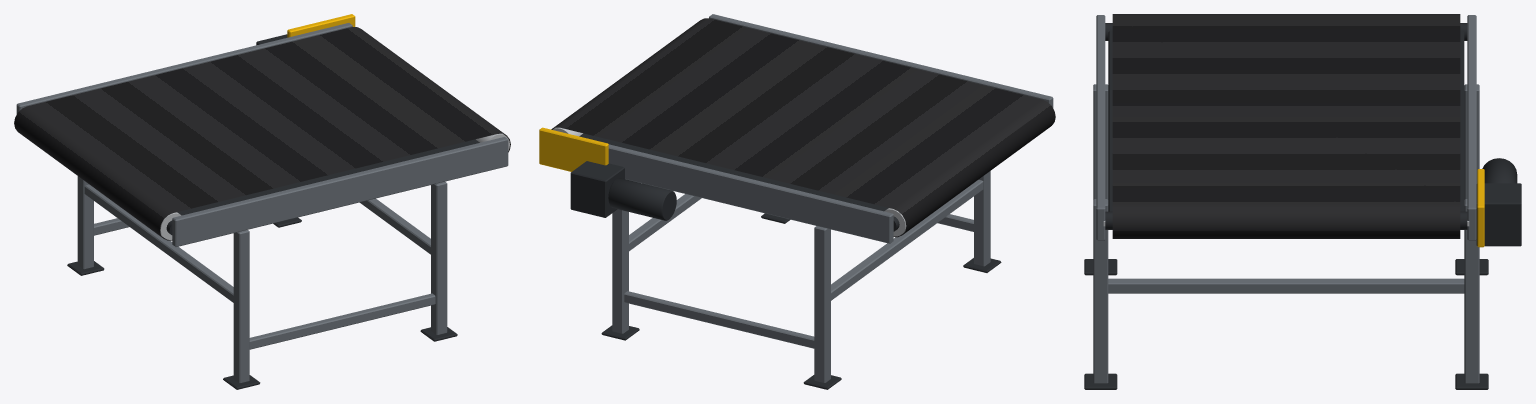
File: conveyor_straight_1m6_wide.glb
3 views of the same model, side by side, from view 1: azimuth 30°, elevation 25°; view 2: azimuth 150°, elevation 25°; view 3: azimuth 270°, elevation 25° (orthographic). The views are drawn at different scales.
Parts seen in each view (by area): view 1: Belt, Conveyor_Static; view 2: Belt, Conveyor_Static; view 3: Belt, Conveyor_Static.
Boxes of the visible parts, x1,y1,x2,y2 form: Belt: [14, 27, 510, 240]; Conveyor_Static: [16, 14, 508, 389]; Belt: [551, 18, 1055, 237]; Conveyor_Static: [539, 14, 1053, 389]; Belt: [1112, 14, 1460, 238]; Conveyor_Static: [1084, 15, 1521, 389].
Size of the model in its own units: 1.6 by 0.805 by 1.45.
Materials: 5 (1 with a texture image).
